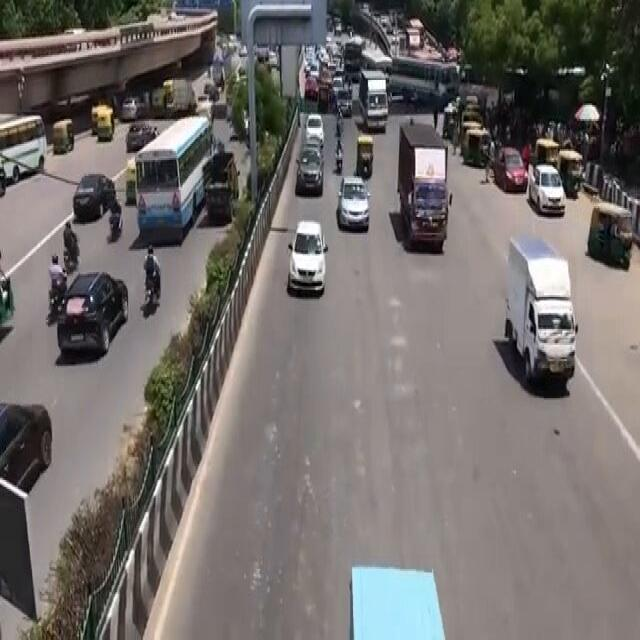three_wheeler: (348, 130, 379, 180)
